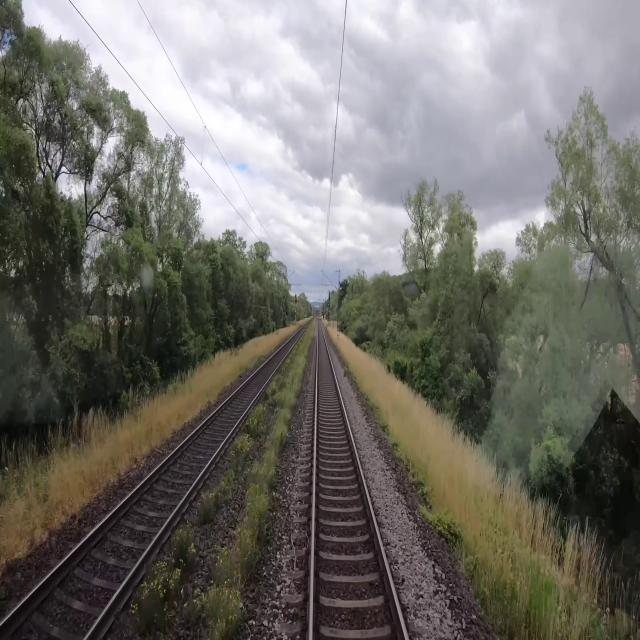Plant: (183, 319, 316, 639), (194, 401, 267, 527), (130, 520, 198, 639)
